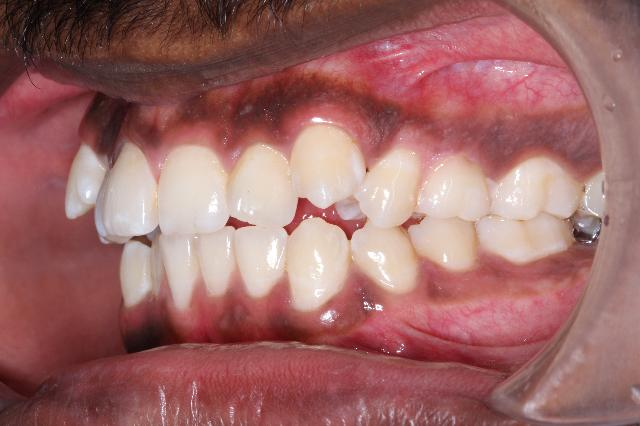canine class II 1/4: (281, 119, 419, 316)
molar class III 1/4: (478, 143, 586, 265)
